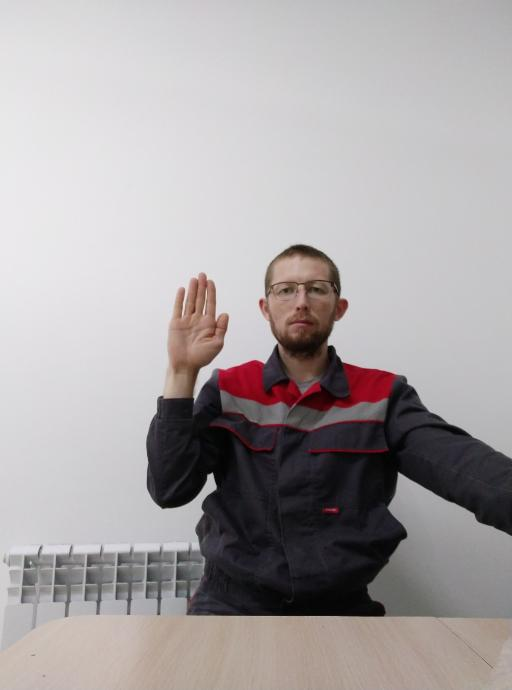stop: (163, 270, 230, 372)
